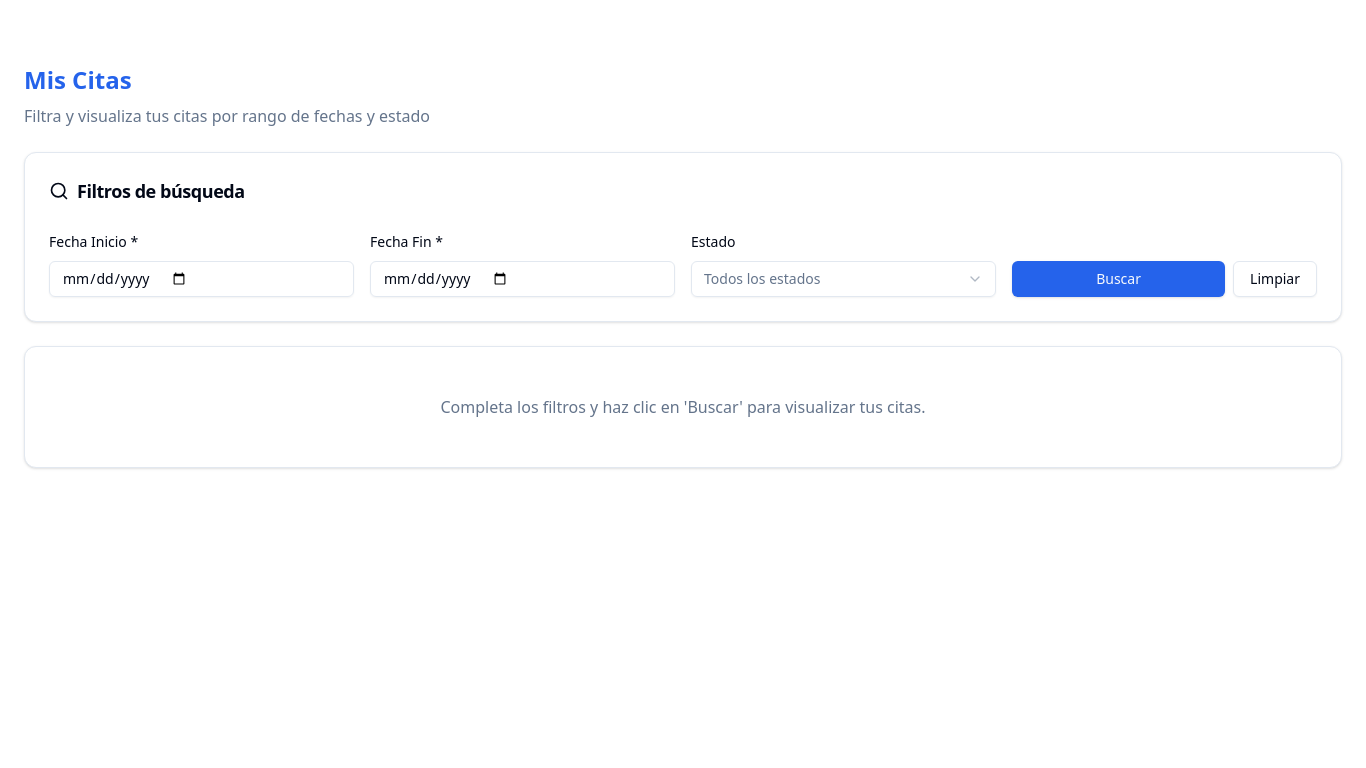
Test: ListAppointmentsComponent › Búsqueda de citas › debe mostrar el conteo correcto de citas
The image size is (1366, 768).
Type "2025-04-01" into the date field below "Fecha Inicio *" at (202, 279), box [49, 261, 354, 297]
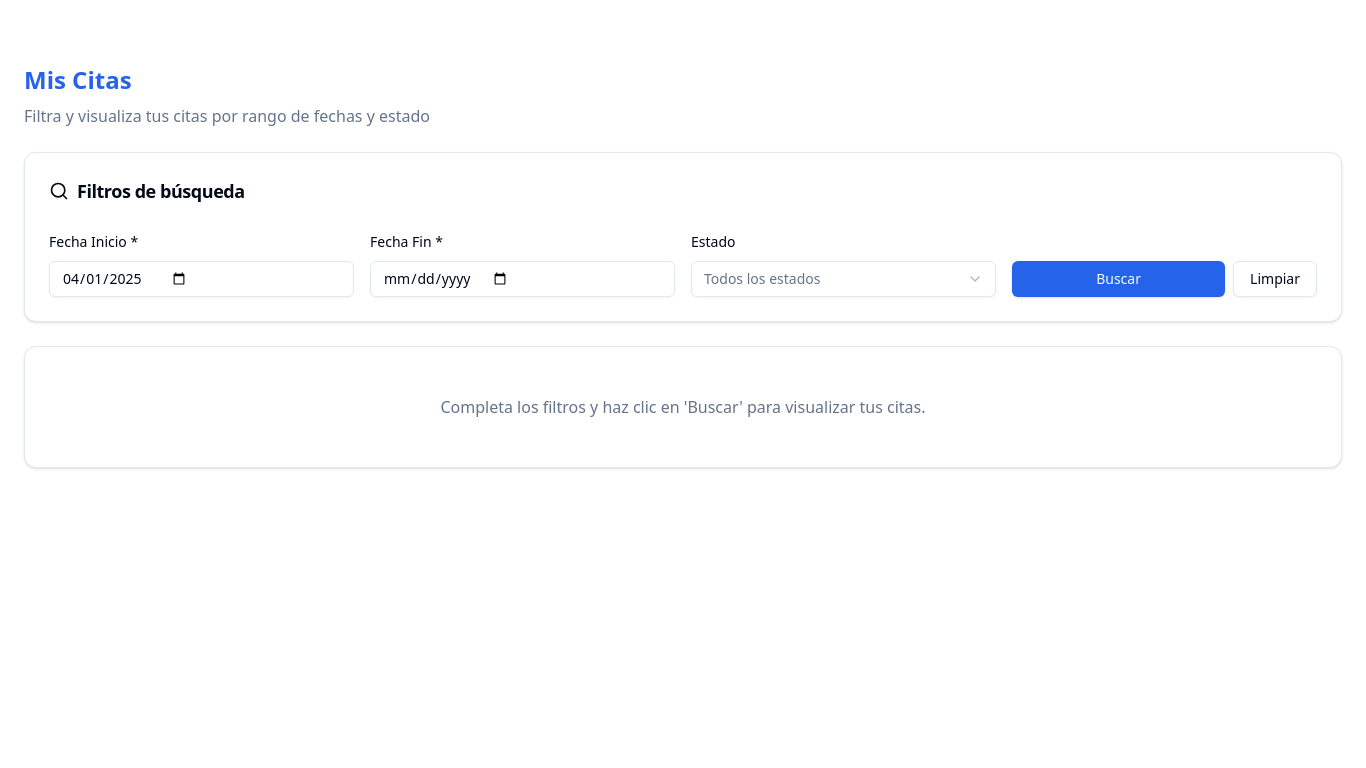
Type "2025-04-30" into the date field below "Fecha Fin *" at (522, 279), box [370, 261, 675, 297]
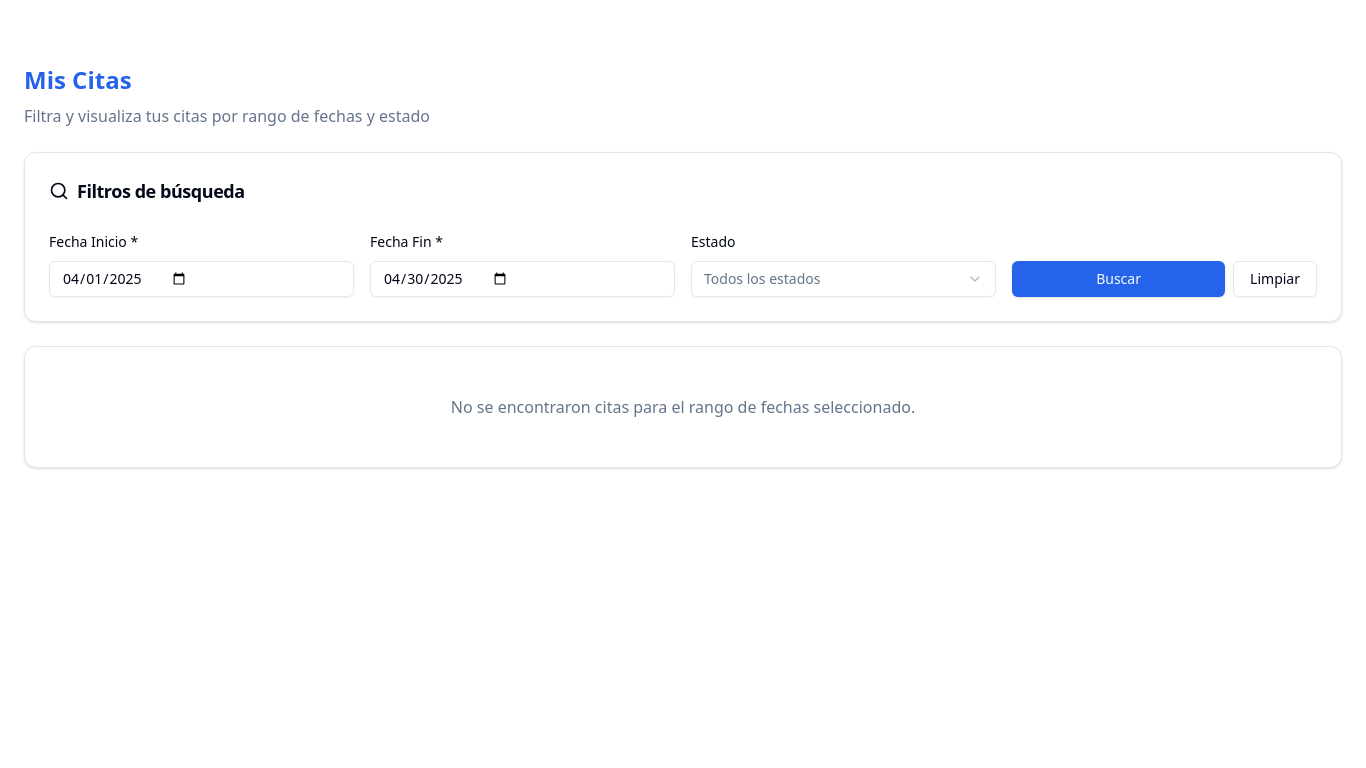
Click the button "Buscar" at (1119, 279), box [1012, 261, 1225, 297]
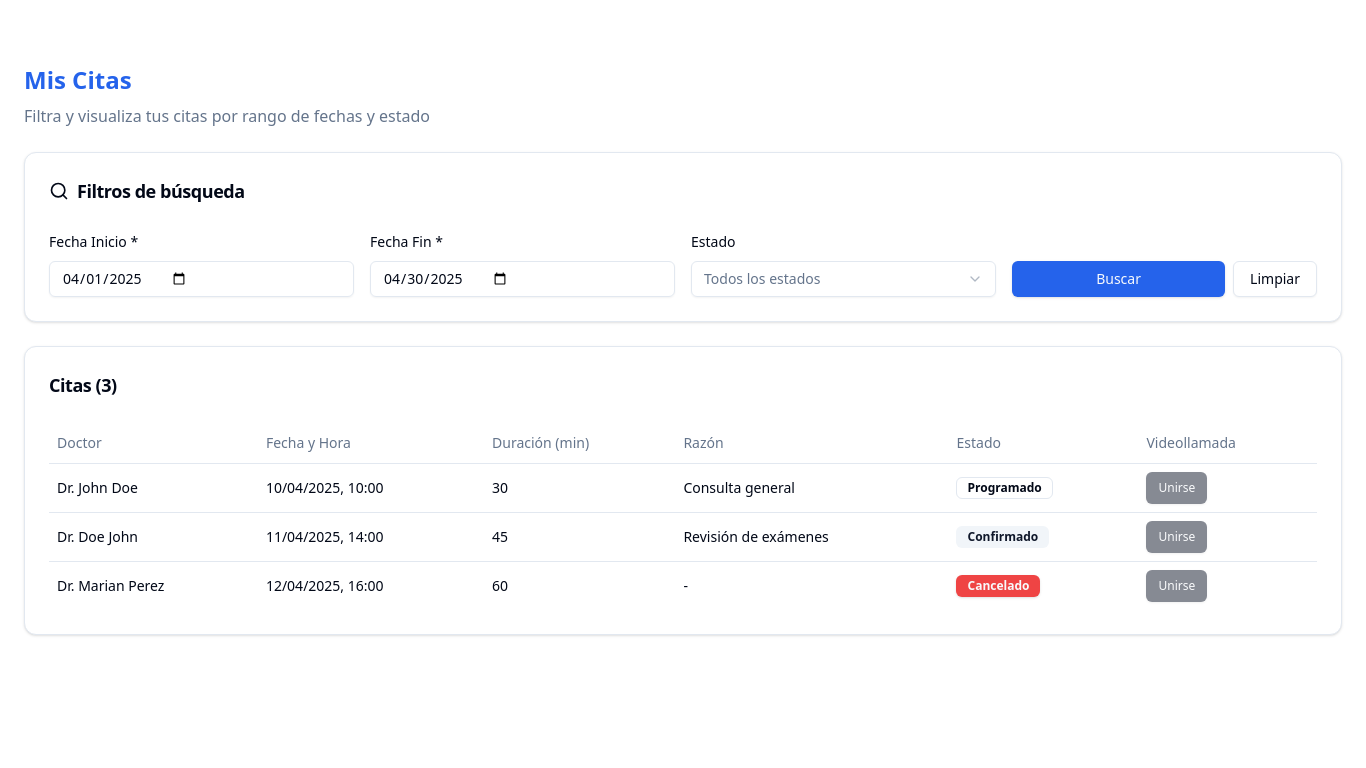
Expected: the text "Citas (3)" is shown, [49, 373, 117, 397]
